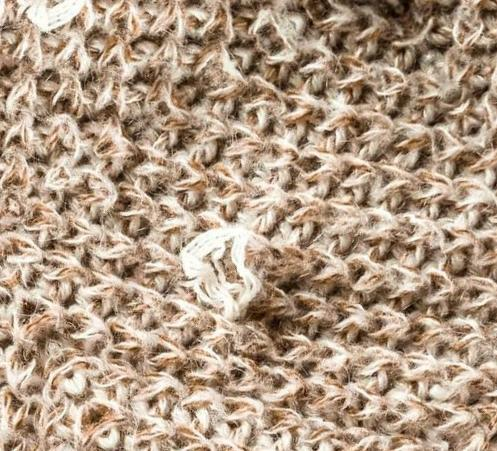snag: (170, 218, 277, 317)
